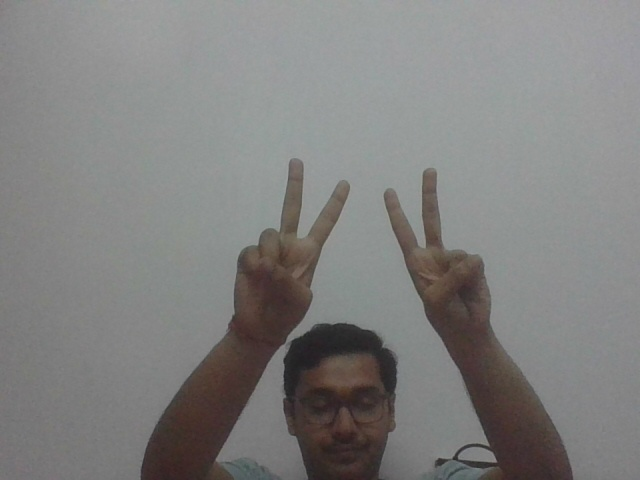V: (370, 155, 515, 335), (231, 152, 355, 335)
